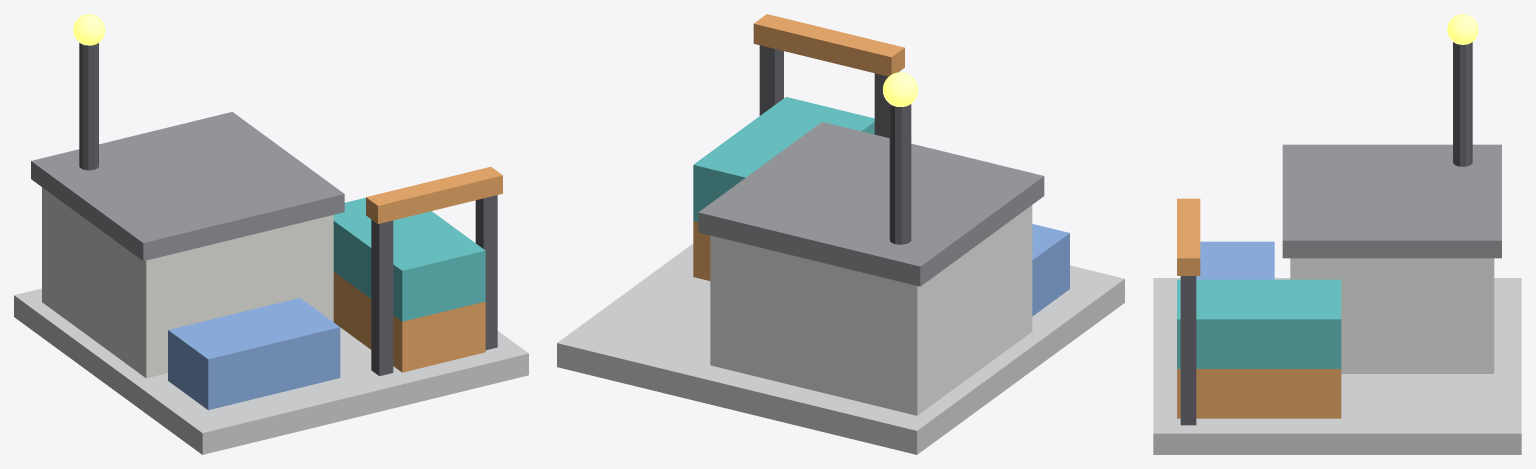
File: logistics_depot.glb
3 views of the same model, side by side, from view 1: azimuth 30°, elevation 25°; view 2: azimuth 150°, elevation 25°; view 3: azimuth 270°, elevation 25° (orthographic). The views are drawn at different scales.
Visible parts, largest first — view 1: warehouse, warehouse_roof, yard, container_blue, container_teal, container_orange, crane_beam, crane_leg_a, dispatch_mast, crane_leg_b, Beacon; view 2: warehouse, yard, warehouse_roof, container_teal, crane_beam, dispatch_mast, container_blue, crane_leg_b, Beacon, container_orange, crane_leg_a; view 3: yard, warehouse_roof, warehouse, container_teal, container_orange, container_blue, crane_leg_b, dispatch_mast, crane_beam, Beacon.
Part boxes in pixels (x1,y1,x2,y2): warehouse: (42, 187, 333, 378); warehouse_roof: (31, 112, 344, 261); yard: (14, 288, 528, 454); container_blue: (168, 298, 340, 410); container_teal: (333, 197, 485, 321); container_orange: (333, 272, 485, 372); crane_beam: (366, 166, 502, 223); crane_leg_a: (371, 219, 393, 376); dispatch_mast: (79, 43, 98, 170); crane_leg_b: (475, 195, 497, 350); Beacon: (73, 14, 105, 45); warehouse: (710, 205, 1032, 415); yard: (557, 243, 1124, 454); warehouse_roof: (698, 122, 1044, 286); container_teal: (693, 97, 874, 221); crane_beam: (753, 14, 904, 76); dispatch_mast: (889, 104, 911, 244); container_blue: (1032, 224, 1069, 316); crane_leg_b: (759, 45, 783, 115); Beacon: (882, 72, 917, 106); container_orange: (693, 221, 710, 280); crane_leg_a: (874, 73, 889, 137); yard: (1153, 278, 1521, 454); warehouse_roof: (1282, 144, 1501, 258); warehouse: (1290, 258, 1494, 373); container_teal: (1177, 279, 1341, 368); container_orange: (1177, 369, 1341, 418); container_blue: (1196, 241, 1274, 279); crane_leg_b: (1180, 276, 1196, 425); dispatch_mast: (1453, 42, 1472, 166); crane_beam: (1177, 198, 1200, 275); Beacon: (1447, 14, 1478, 44).
Size of the model in its own units: 0.94 by 0.86 by 0.94.
